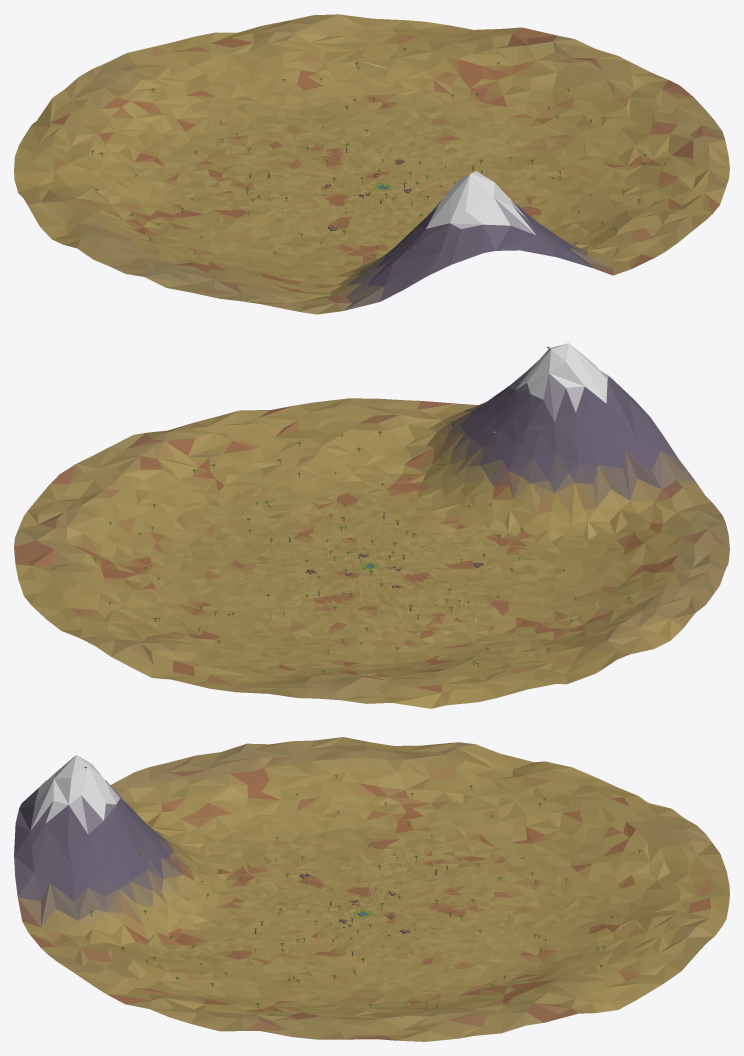
File: world_zoo.glb
3 views of the same model, one above another, from view 1: azimuth 30°, elevation 25°; view 2: azimuth 150°, elevation 25°; view 3: azimuth 270°, elevation 25° (orthographic).
Visible parts, largest first — view 1: Sector5, Sector4, Sector6, Sector3, Sector7, Sector1, Sector0, Sector2; view 2: Sector1, Sector3, Sector2, Sector4, Sector7, Sector0, Sector5, Sector6; view 3: Sector2, Sector0, Sector7, Sector6, Sector5, Sector3, Sector1, Sector4.
Part boxes in pixels (box(x1,y1,x2,y2)): Sector5: box(196, 14, 472, 184); Sector4: box(372, 27, 679, 185); Sector6: box(32, 36, 371, 185); Sector3: box(373, 85, 729, 213); Sector7: box(14, 124, 370, 244); Sector1: box(260, 170, 556, 314); Sector0: box(63, 185, 371, 303); Sector2: box(372, 185, 712, 275); Sector1: box(373, 343, 721, 570); Sector3: box(60, 405, 370, 570); Sector2: box(289, 374, 523, 570); Sector4: box(14, 474, 370, 595); Sector7: box(372, 571, 683, 705); Sector0: box(373, 511, 729, 627); Sector5: box(24, 571, 369, 683); Sector6: box(190, 570, 455, 708); Sector2: box(14, 805, 370, 994); Sector0: box(128, 737, 375, 910); Sector7: box(358, 742, 637, 910); Sector6: box(372, 793, 729, 912); Sector5: box(373, 891, 729, 1009); Sector3: box(107, 910, 383, 1039); Sector1: box(14, 755, 371, 912); Sector4: box(364, 910, 617, 1041).
Bounding box in the file's own units: 1280 × 264 × 1280.
